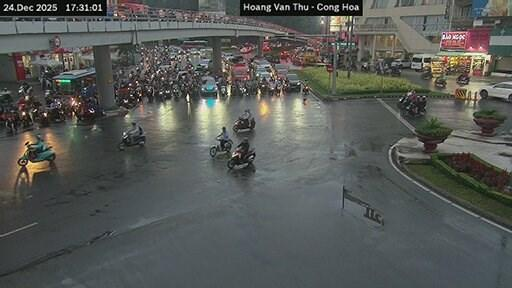motorbike: (16, 140, 54, 165), (227, 148, 255, 167), (208, 136, 231, 156), (118, 131, 144, 148), (400, 100, 425, 116), (74, 103, 95, 120), (396, 90, 413, 108), (233, 117, 255, 130), (19, 108, 31, 126), (48, 108, 63, 121), (38, 108, 48, 126), (6, 113, 15, 133), (455, 76, 469, 84), (268, 81, 275, 94), (390, 67, 400, 76), (220, 85, 227, 97), (301, 85, 309, 94), (422, 72, 432, 79), (435, 79, 444, 86)
